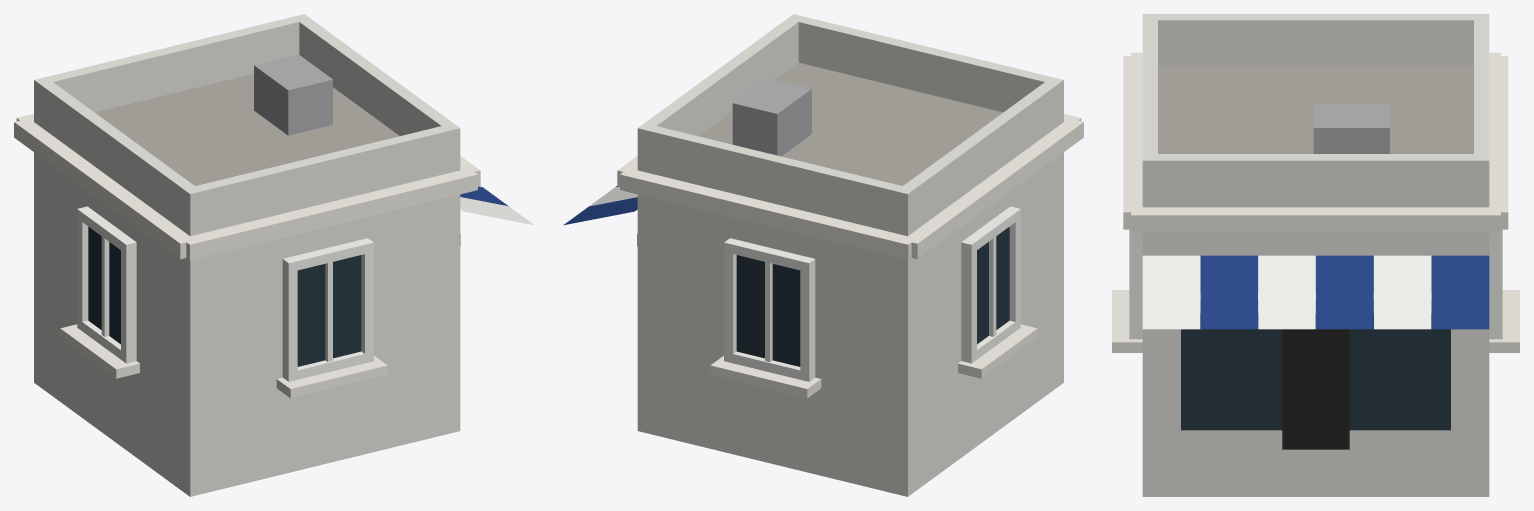
The picture shows the model from 3 angles, left to right: view 1: azimuth 30°, elevation 25°; view 2: azimuth 150°, elevation 25°; view 3: azimuth 270°, elevation 25°; orthographic projection. The views are drawn at different scales.
Visible parts, largest first — view 1: b11860; view 2: b11860; view 3: b11860.
Part boxes in pixels (x1=…): b11860: x1=14, y1=14, x2=534, y2=496; b11860: x1=563, y1=14, x2=1083, y2=496; b11860: x1=1112, y1=14, x2=1519, y2=496.
Size of the model in its own units: 2471 by 1969 by 2131.
